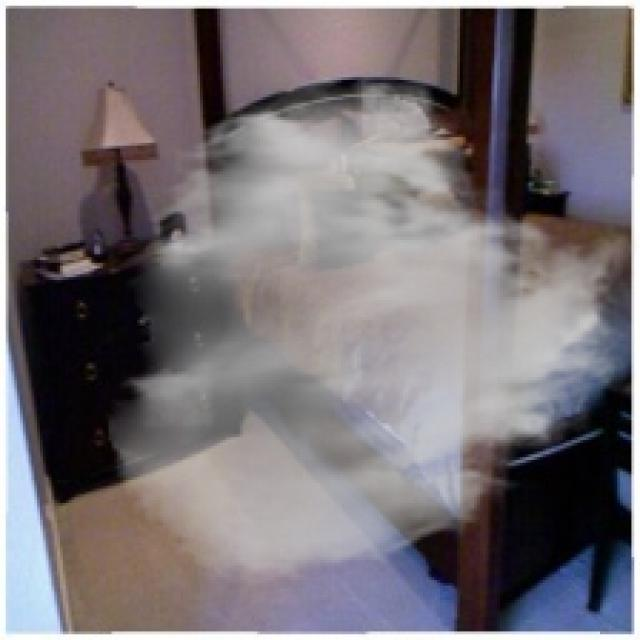smoke: (103, 71, 637, 592)
